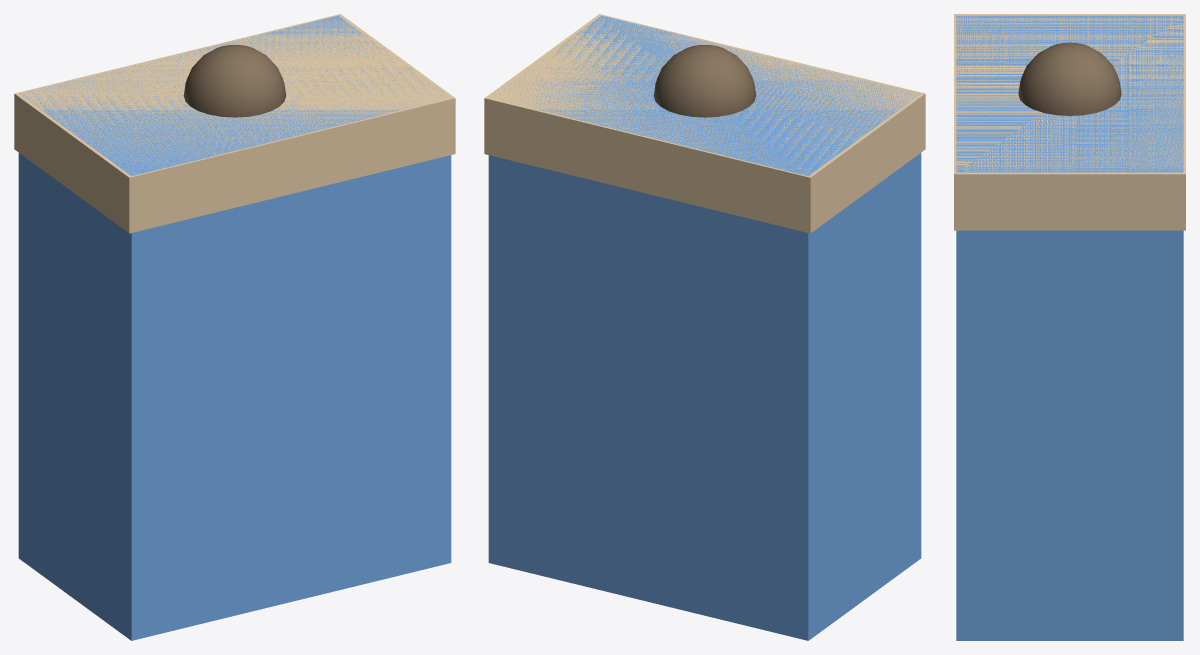
The model's file is doll_Torso.glb.
3 renders of one model, left to right at view 1: azimuth 30°, elevation 25°; view 2: azimuth 150°, elevation 25°; view 3: azimuth 270°, elevation 25°, orthographic.
Parts seen in each view (by area): view 1: Torso; view 2: Torso; view 3: Torso.
Boxes of the visible parts, left/top/right/bottom form: Torso: left=14, top=14, right=455, bottom=640; Torso: left=484, top=14, right=925, bottom=640; Torso: left=954, top=14, right=1185, bottom=640.
Size of the model in its own units: 0.3672 by 0.55 by 0.2244.
